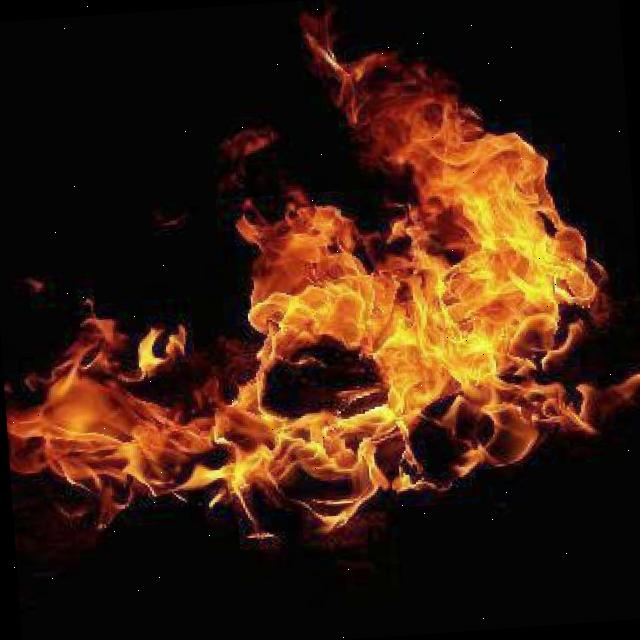fire: (0, 56, 640, 545)
